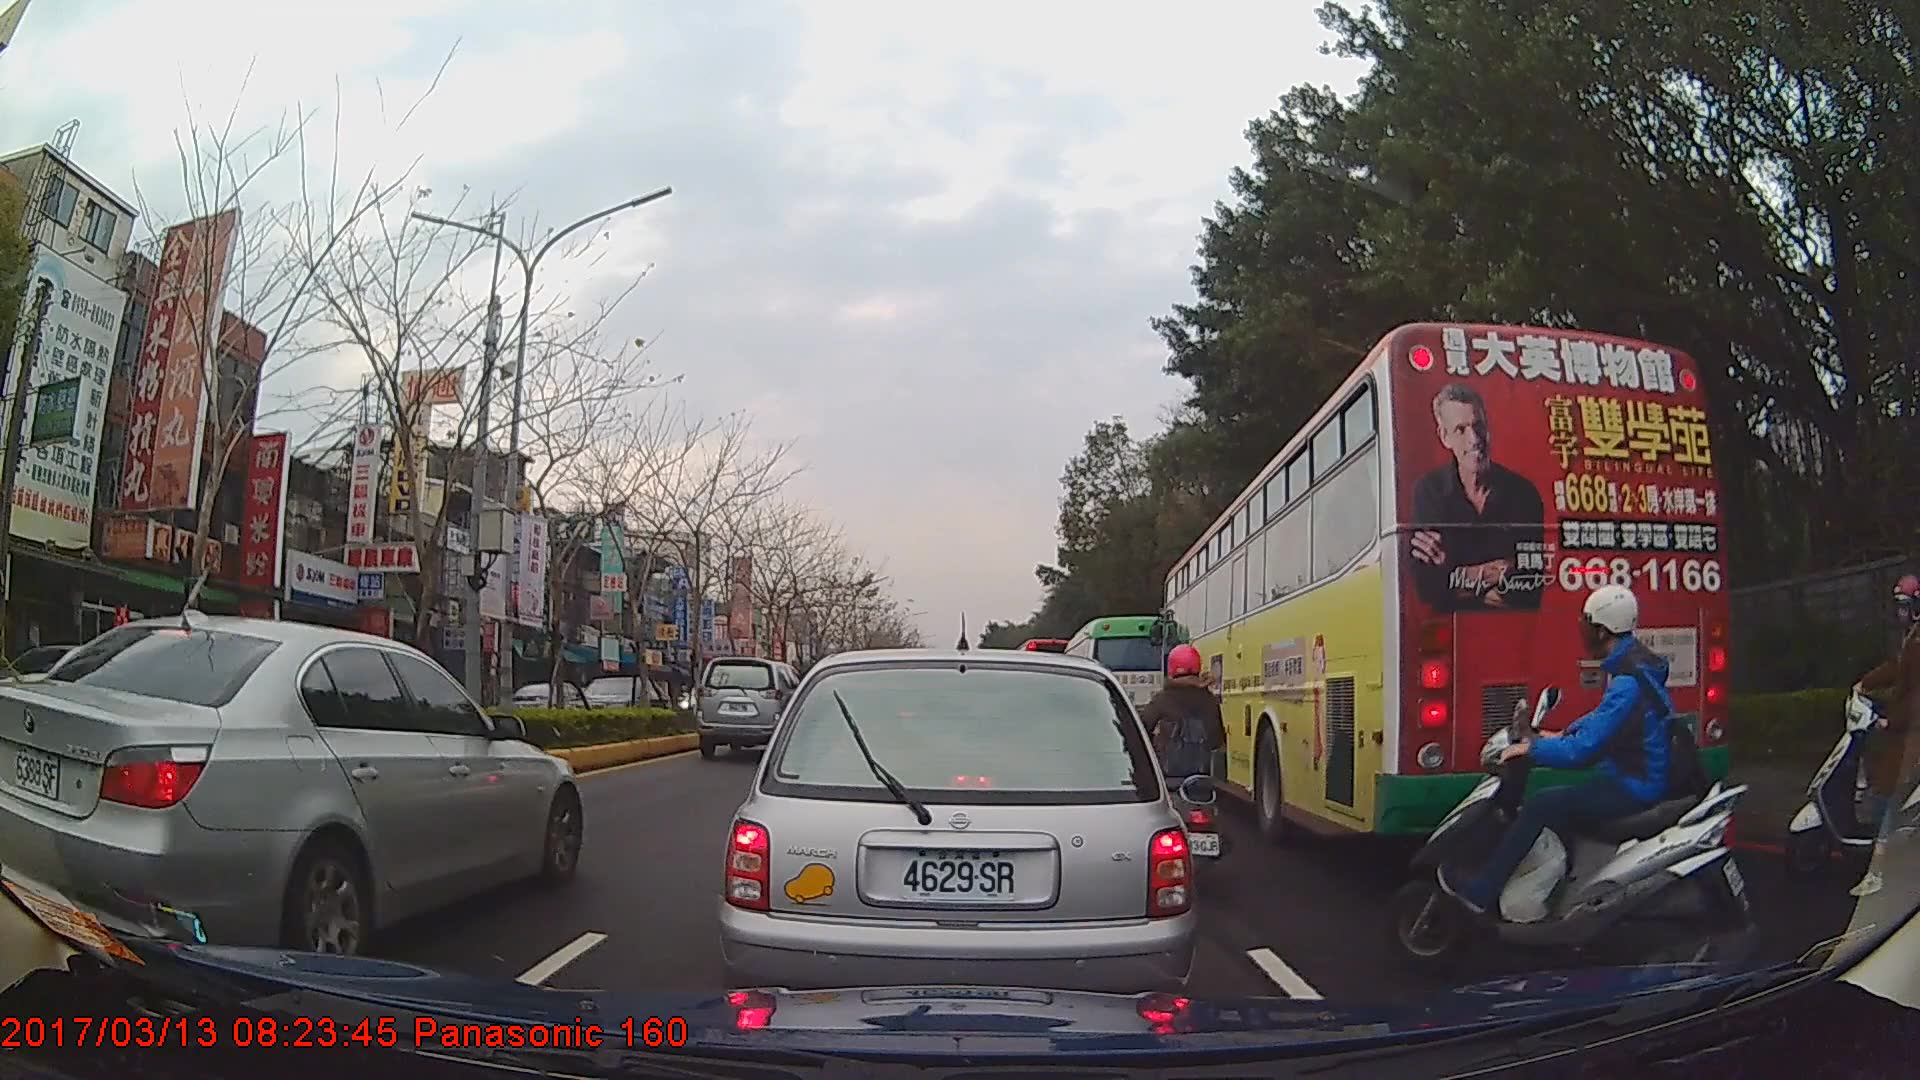rider: (1368, 586, 1752, 973), (1793, 571, 1918, 897), (1127, 642, 1231, 879)
vehicle: (1160, 320, 1727, 854), (0, 611, 581, 966), (716, 646, 1195, 1032), (1061, 615, 1187, 758), (696, 654, 815, 759), (562, 673, 667, 729), (493, 675, 575, 731)
